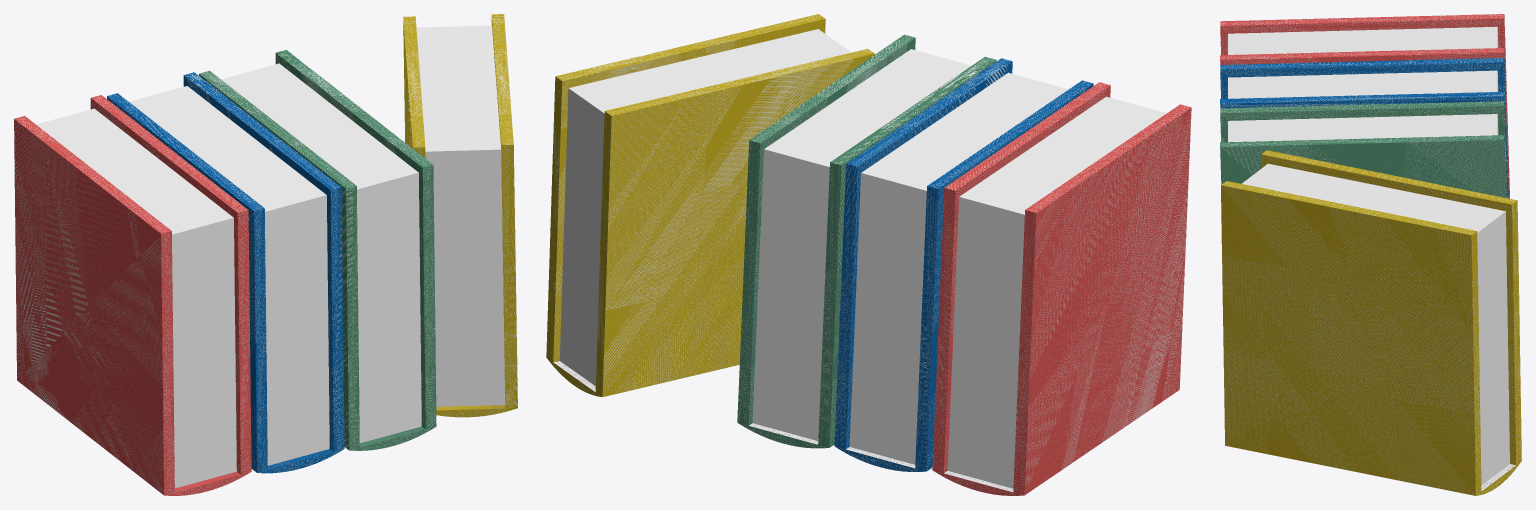
3 views of the same model, side by side, from view 1: azimuth 30°, elevation 25°; view 2: azimuth 150°, elevation 25°; view 3: azimuth 270°, elevation 25° (orthographic). The views are drawn at different scales.
Parts seen in each view (by area): view 1: books; view 2: books; view 3: books.
Part boxes in pixels (x1,y1,x2,y2): books: (14,14,517,495); books: (546,14,1191,495); books: (1220,14,1521,495).
Bounding box in the file's own units: 532 × 300 × 300.
